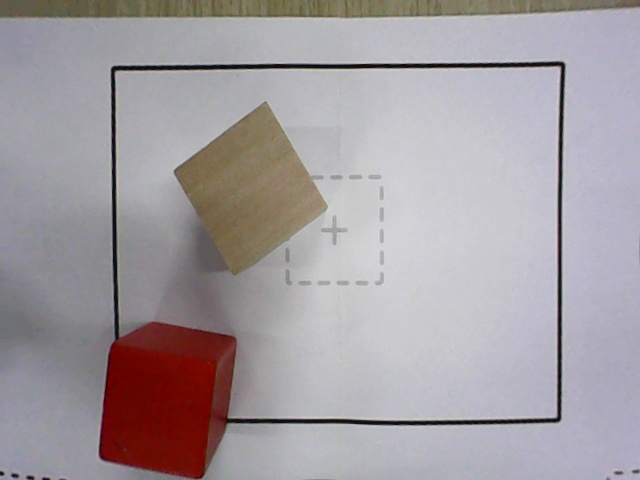upside of big cube: (173, 102, 330, 274), (99, 345, 216, 479)
